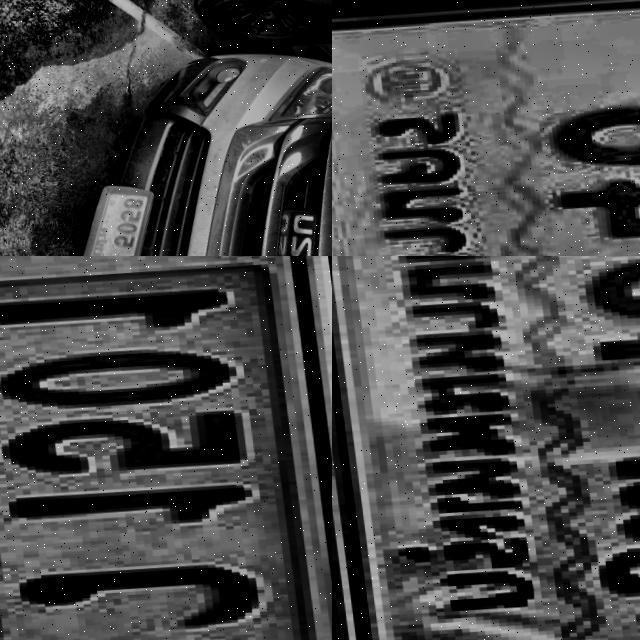license-plate: (0, 256, 332, 640), (332, 256, 640, 640), (332, 0, 640, 256), (46, 177, 162, 256)
